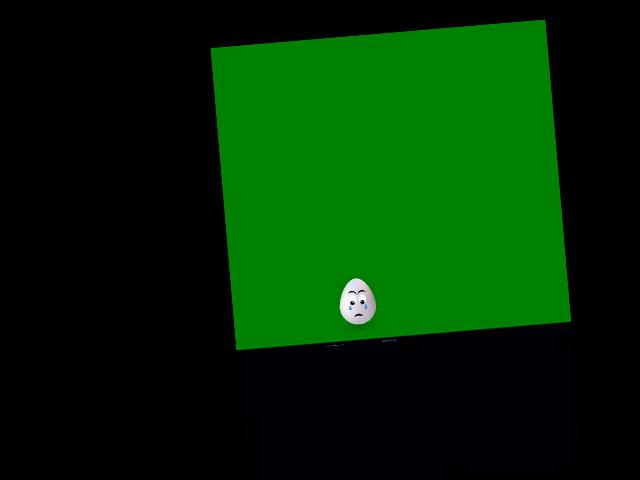egg: (337, 277, 377, 325)
